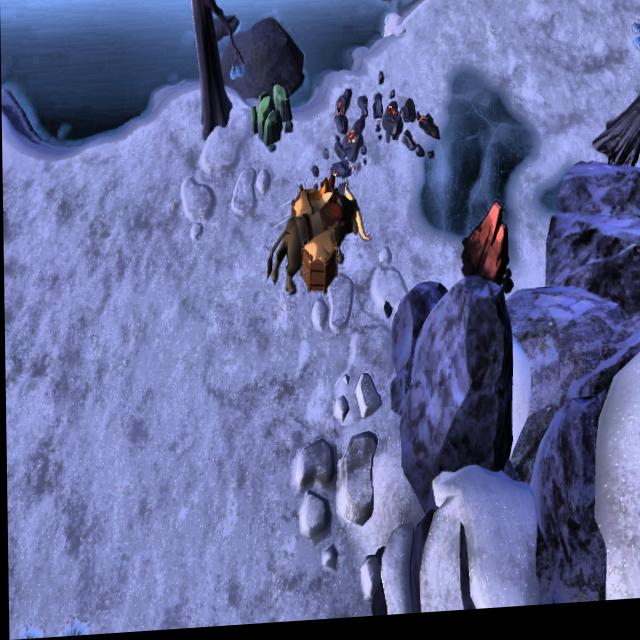rock_t3: (247, 82, 294, 154)
rock_t5: (456, 205, 513, 305)
